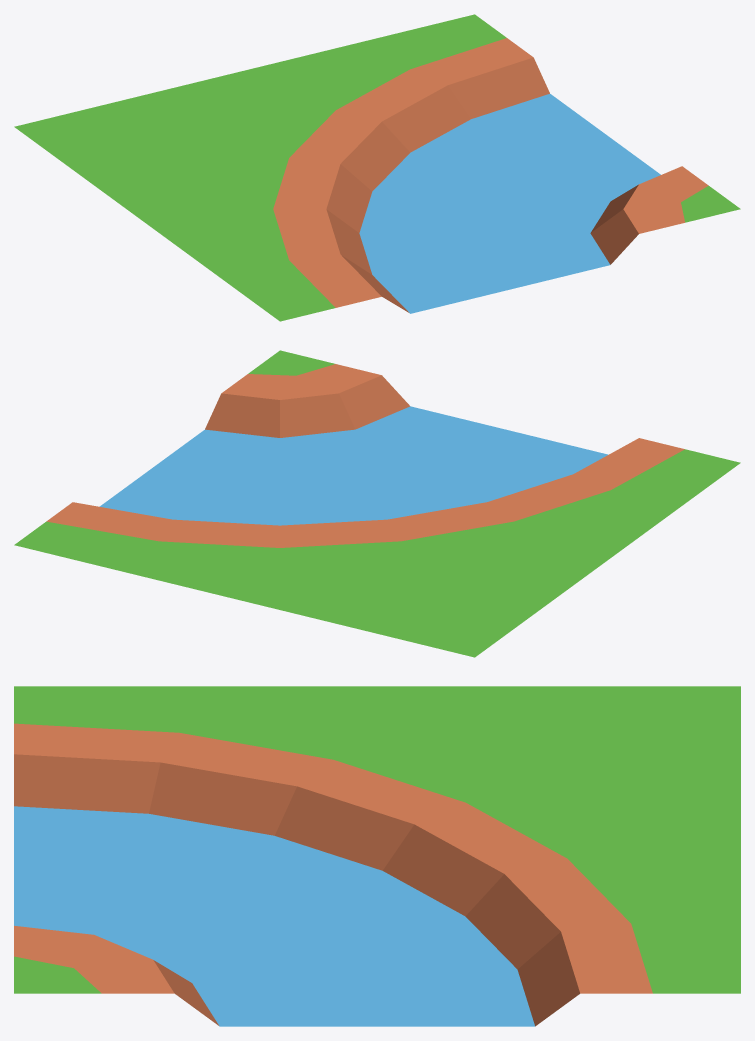
Rendered from ground_riverBend.glb.
3 renders of one model, top to bottom at view 1: azimuth 30°, elevation 25°; view 2: azimuth 150°, elevation 25°; view 3: azimuth 270°, elevation 25°, orthographic. The views are drawn at different scales.
Parts seen in each view (by area): view 1: ground_riverBend; view 2: ground_riverBend; view 3: ground_riverBend.
Part boxes in pixels (<box>): ground_riverBend: <box>14,14,740,321</box>; ground_riverBend: <box>14,350,740,657</box>; ground_riverBend: <box>14,686,740,1026</box>.
Bounding box in the file's own units: 1 × 0.05 × 1.
